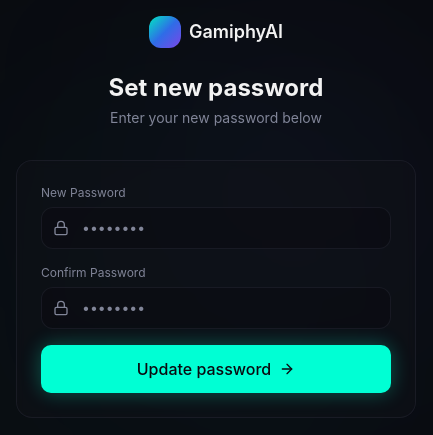
Test: ResetPasswordPage › successfully resets password with valid input
Type "NewPassword123!" into the 1st password field with placeholder "••••••••" at (216, 228), box [41, 207, 391, 249]
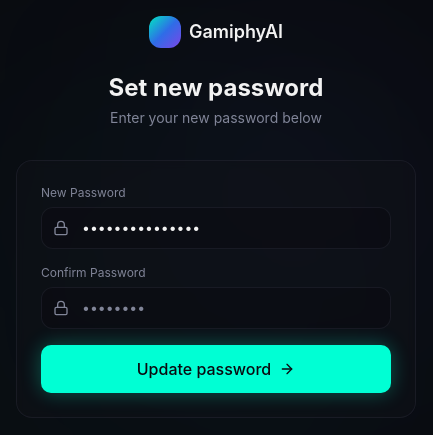
Type "NewPassword123!" into the password field with placeholder "••••••••" at (216, 308), box [41, 287, 391, 329]
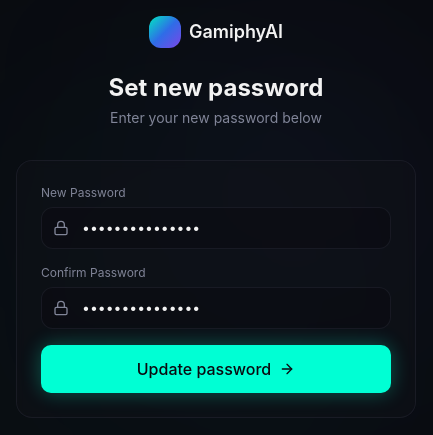
Click the button "Update password" at (216, 369), box [41, 345, 391, 393]
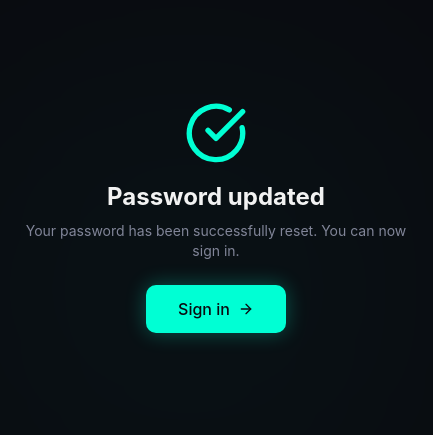
Expected: the heading "Password updated" is shown, [107, 182, 325, 211]
